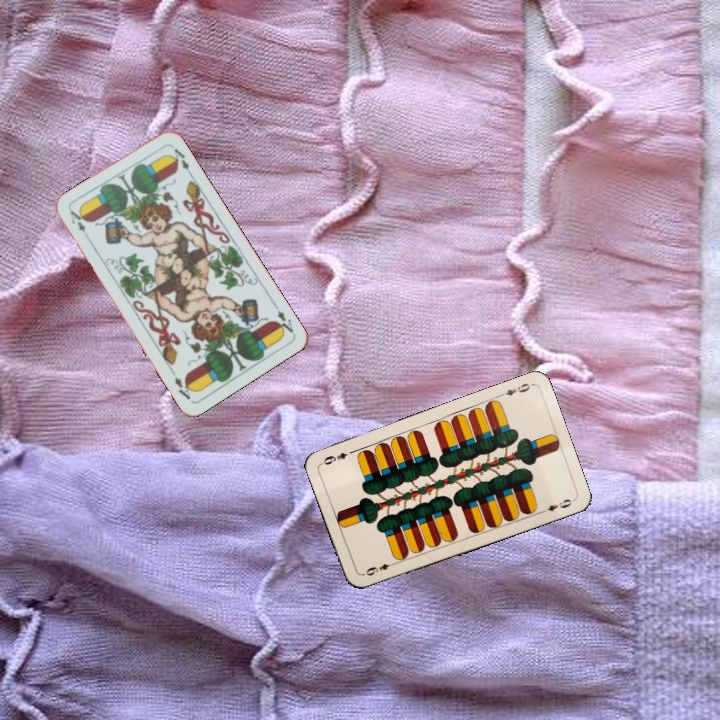E9: (495, 379, 534, 400), (362, 558, 398, 578)
EA: (269, 299, 296, 338), (66, 206, 88, 235)
